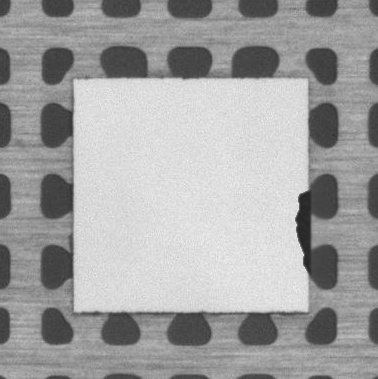DIE_BROKEN: (294, 183, 313, 277)
